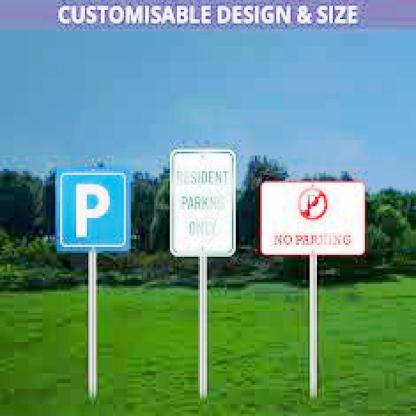Parking: (57, 168, 131, 254)
